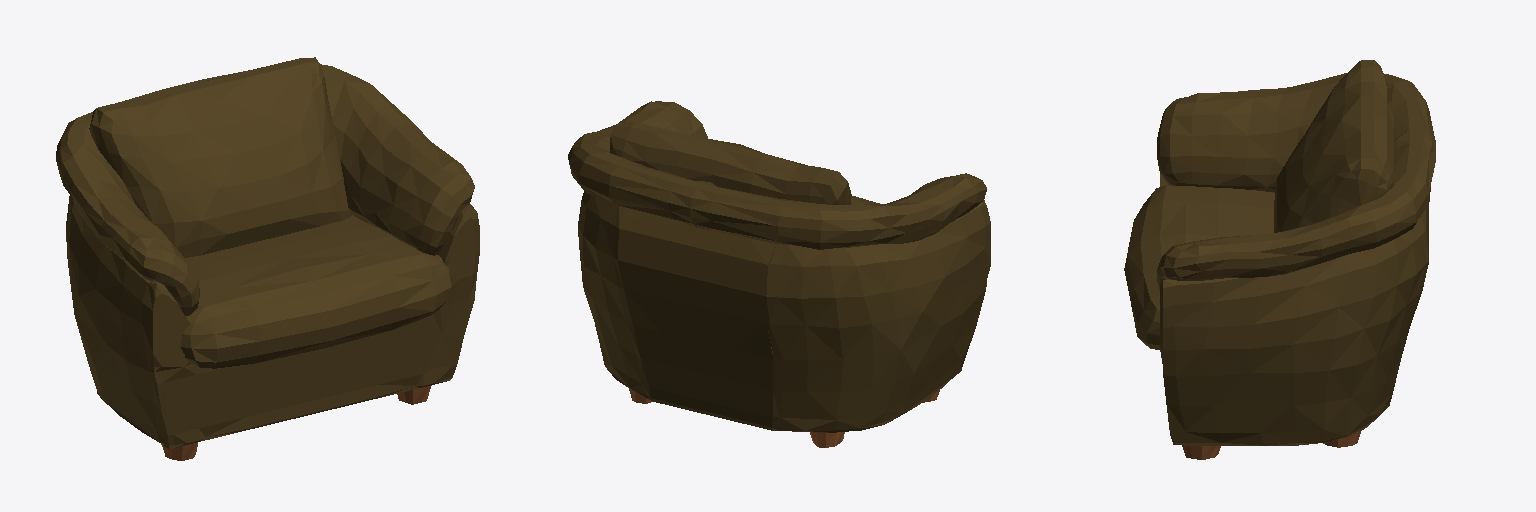
Rendered from sofa8.obj.
3 renders of one model, left to right at view 1: azimuth 30°, elevation 25°; view 2: azimuth 150°, elevation 25°; view 3: azimuth 270°, elevation 25°, orthographic.
Bounding box in the file's own units: 44.99 × 36 × 36.